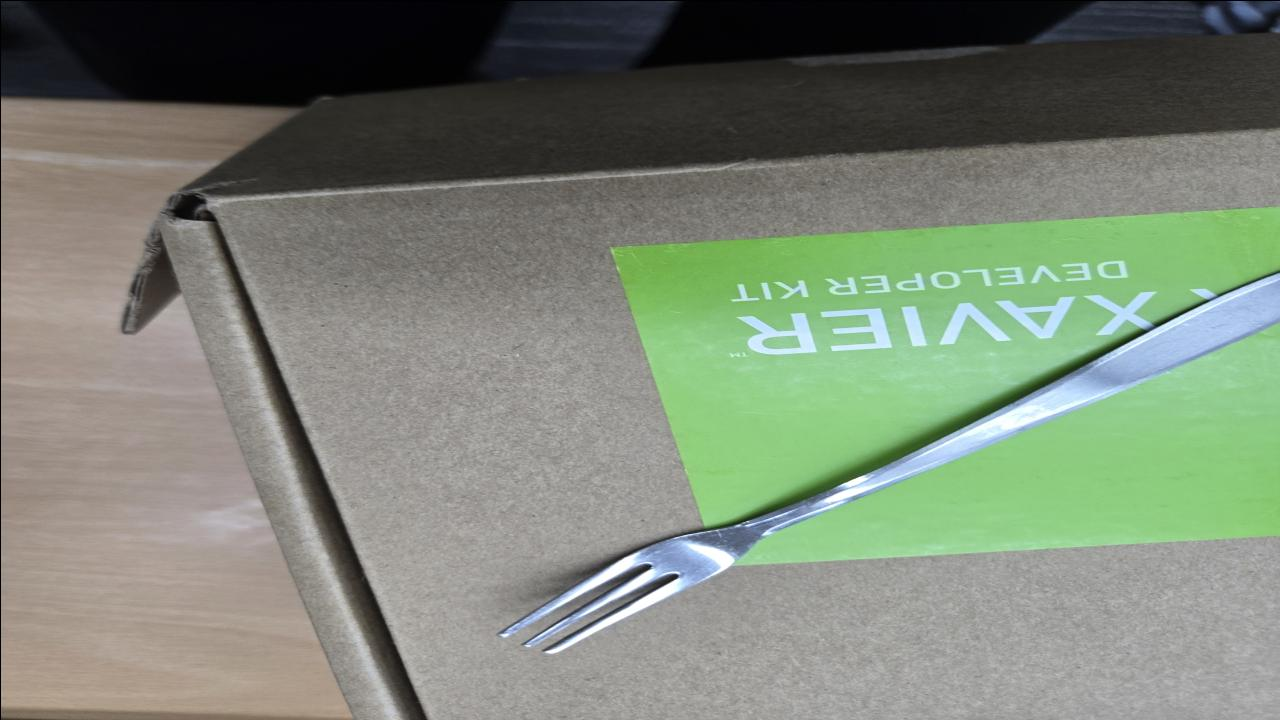fork: (494, 268, 1280, 655)
